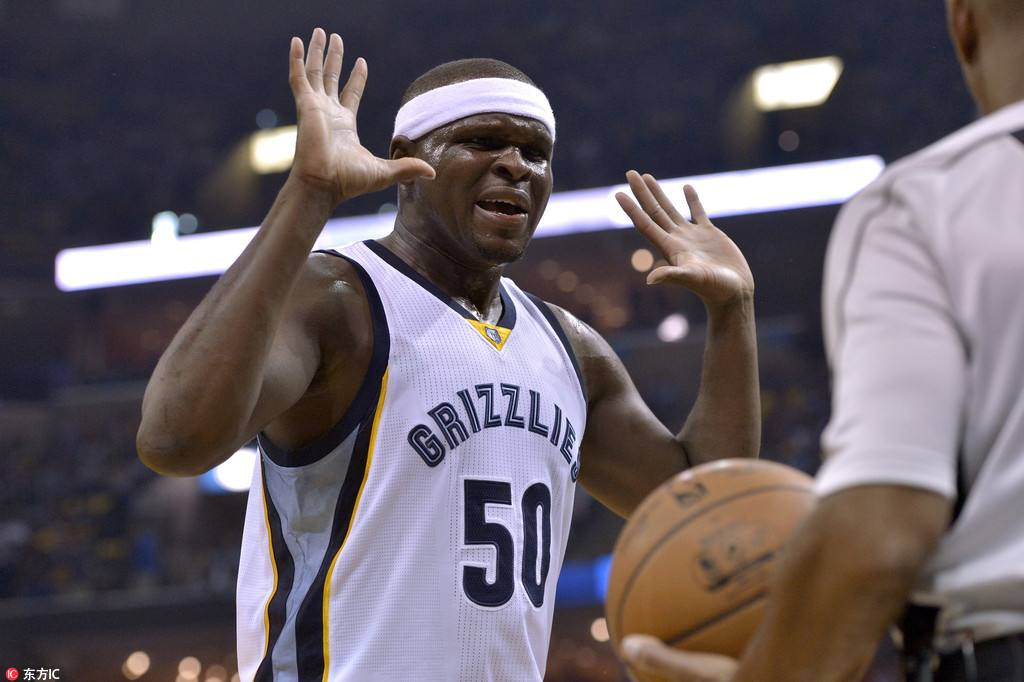no-phone: (283, 27, 438, 200), (612, 166, 758, 300)
